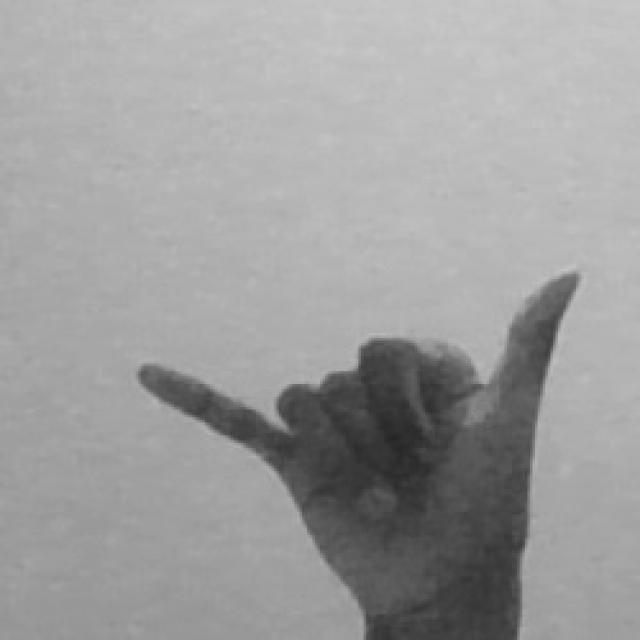Y: (133, 258, 583, 640)
